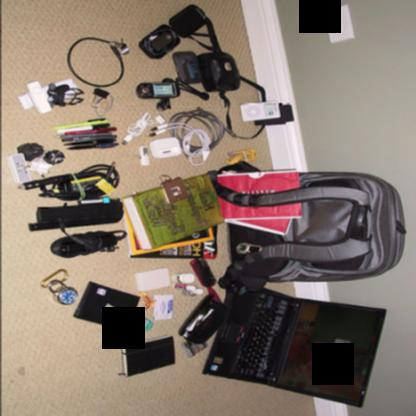backpack: (211, 165, 406, 288)
